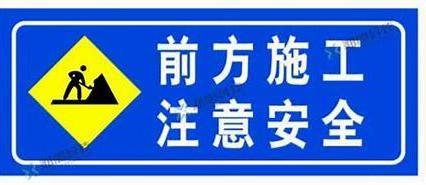sign: (8, 10, 410, 167)
